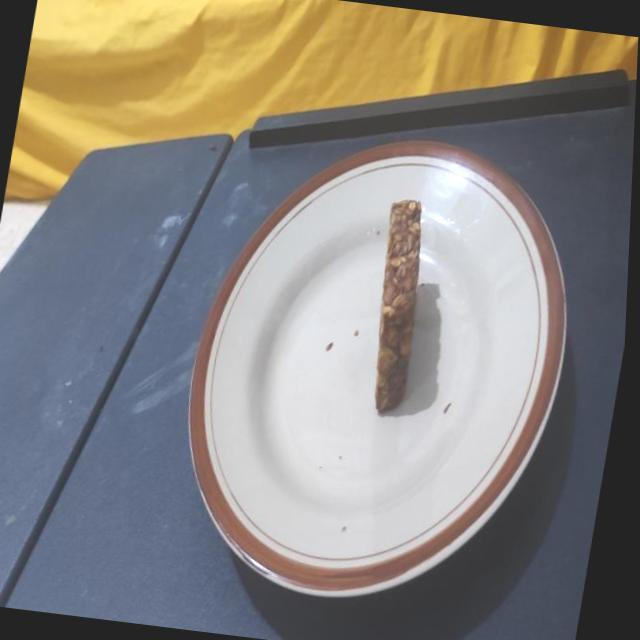tempe_goreng: (374, 200, 420, 412)
